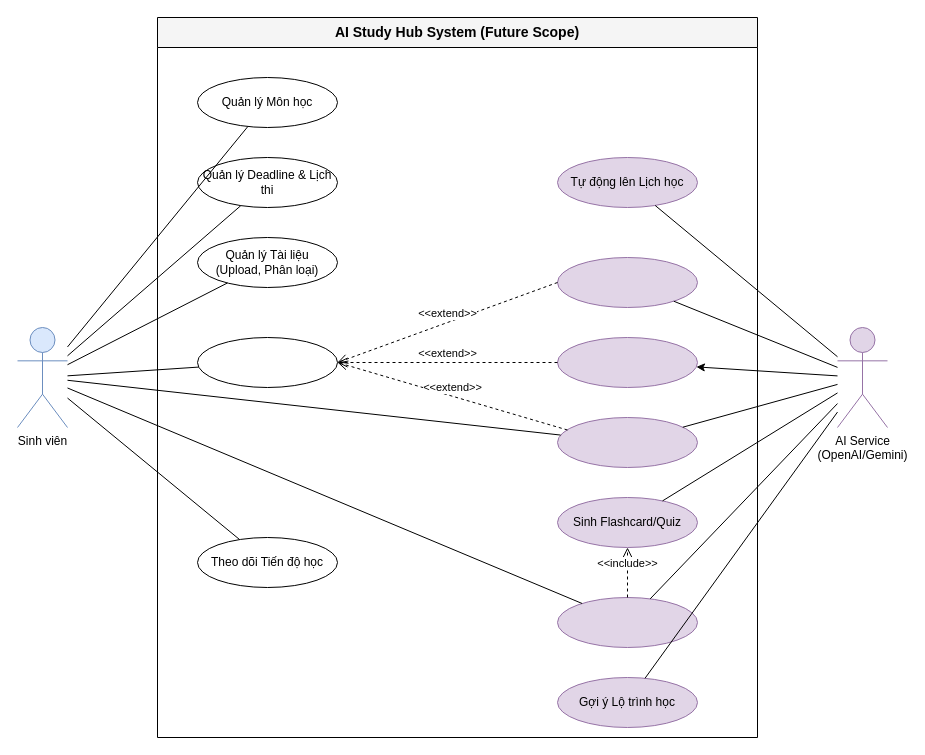
The diagram is 925 pixels wide and 755 high, and some of its shapes have lost their labels. Each missing label, with the box of its shape:
Chat với Tài liệu: (556, 416, 698, 468)
Tra cứu ngữ cảnh (Giải thích, Dịch): (556, 256, 698, 308)
Tóm tắt tự động: (556, 336, 698, 388)
Đánh giá năng lực: (556, 596, 698, 648)
Đọc & Ghi chú PDF: (196, 336, 338, 388)
